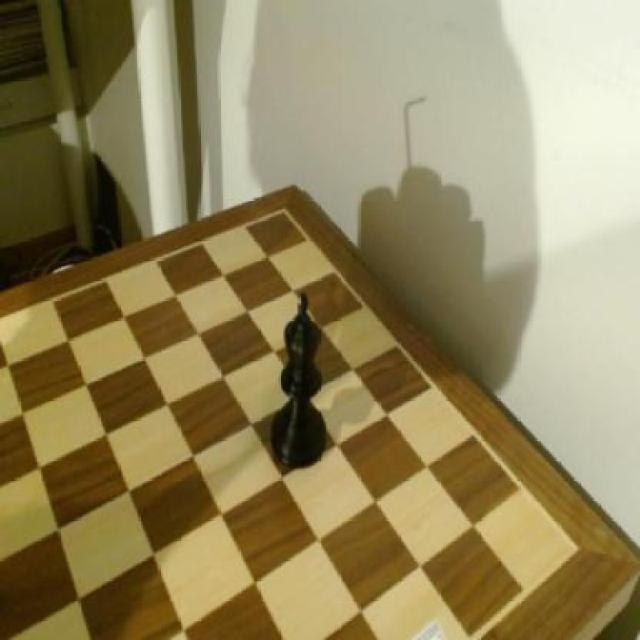black-bishop: (269, 286, 330, 472)
